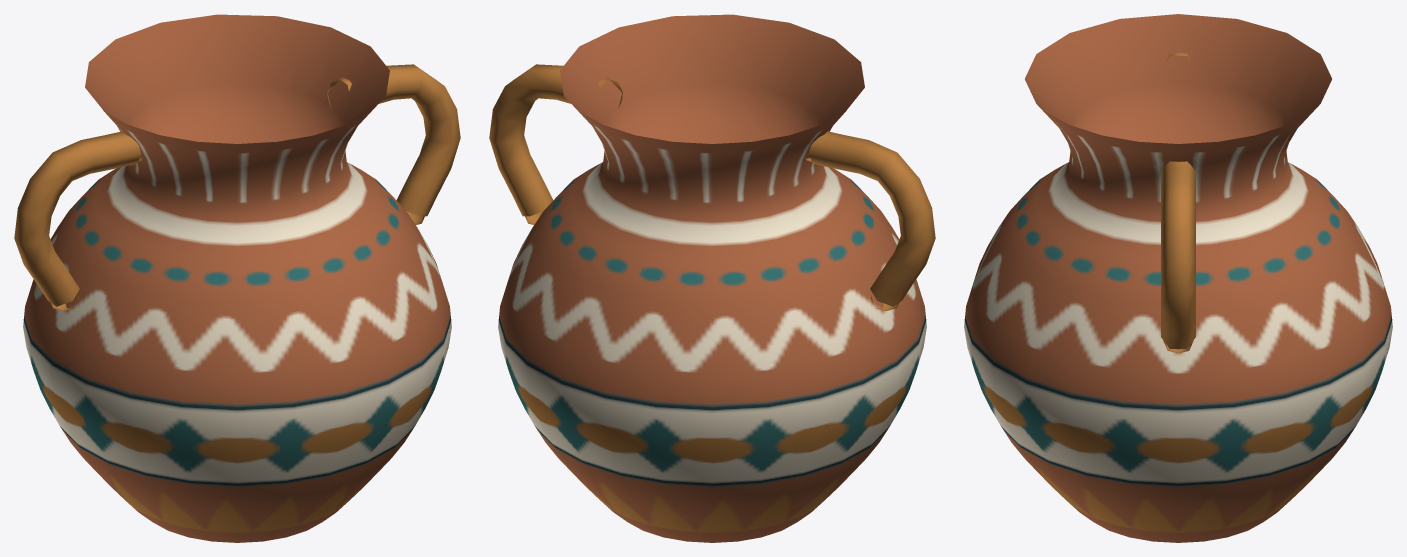
The model's file is prop-vase-b.glb.
3 views of the same model, side by side, from view 1: azimuth 30°, elevation 25°; view 2: azimuth 150°, elevation 25°; view 3: azimuth 270°, elevation 25° (orthographic).
Visible parts, largest first — view 1: piece_PaintedVaseB, piece_Clay, piece_CeramicOchre; view 2: piece_PaintedVaseB, piece_Clay, piece_CeramicOchre; view 3: piece_PaintedVaseB, piece_Clay, piece_CeramicOchre.
Part boxes in pixels (<box>): piece_PaintedVaseB: <box>23,111,451,542</box>; piece_Clay: <box>85,14,389,143</box>; piece_CeramicOchre: <box>14,64,460,310</box>; piece_PaintedVaseB: <box>498,111,926,542</box>; piece_Clay: <box>560,14,864,143</box>; piece_CeramicOchre: <box>489,64,935,310</box>; piece_PaintedVaseB: <box>964,112,1392,542</box>; piece_Clay: <box>1025,14,1331,143</box>; piece_CeramicOchre: <box>1161,53,1195,353</box>.
Size of the model in its own units: 0.2168 by 0.2 by 0.184.
3 materials, 1 textured.
